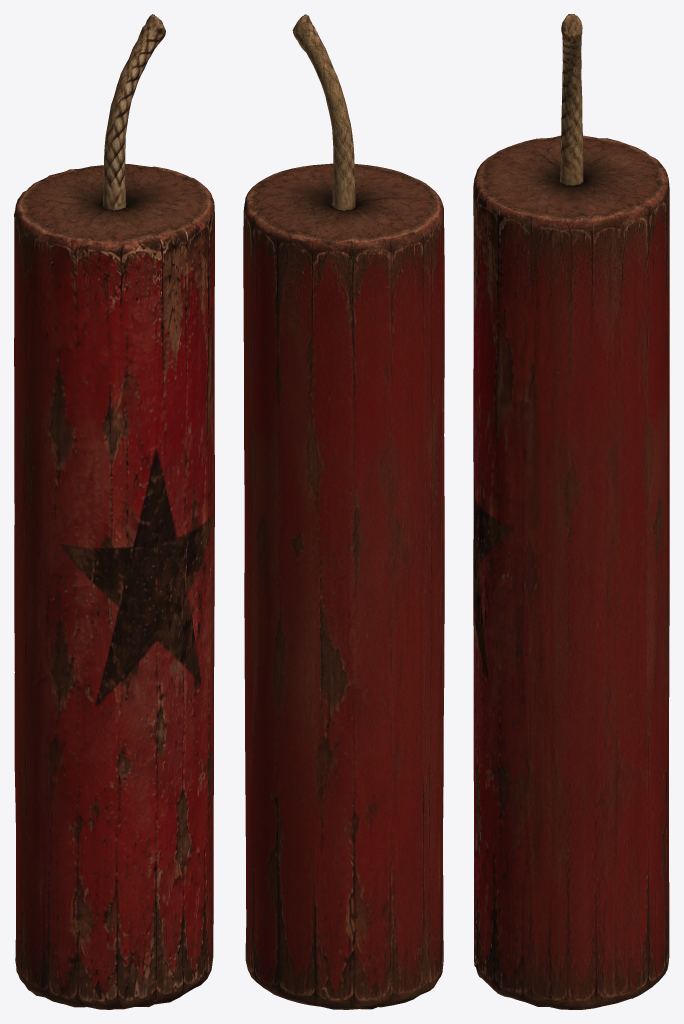
Rendered from Dynamite.fbx.
The picture shows the model from 3 angles, left to right: view 1: azimuth 30°, elevation 25°; view 2: azimuth 150°, elevation 25°; view 3: azimuth 270°, elevation 25°; orthographic projection. The views are drawn at different scales.
Parts seen in each view (by area): view 1: Dynamite; view 2: Dynamite; view 3: Dynamite.
Boxes of the visible parts, x1,y1,x2,y2 form: Dynamite: (14, 14, 214, 1009); Dynamite: (243, 14, 444, 1009); Dynamite: (473, 14, 669, 1009).
Bounding box in the file's own units: 3.71 × 18.99 × 3.47.
1 material, 1 textured.
